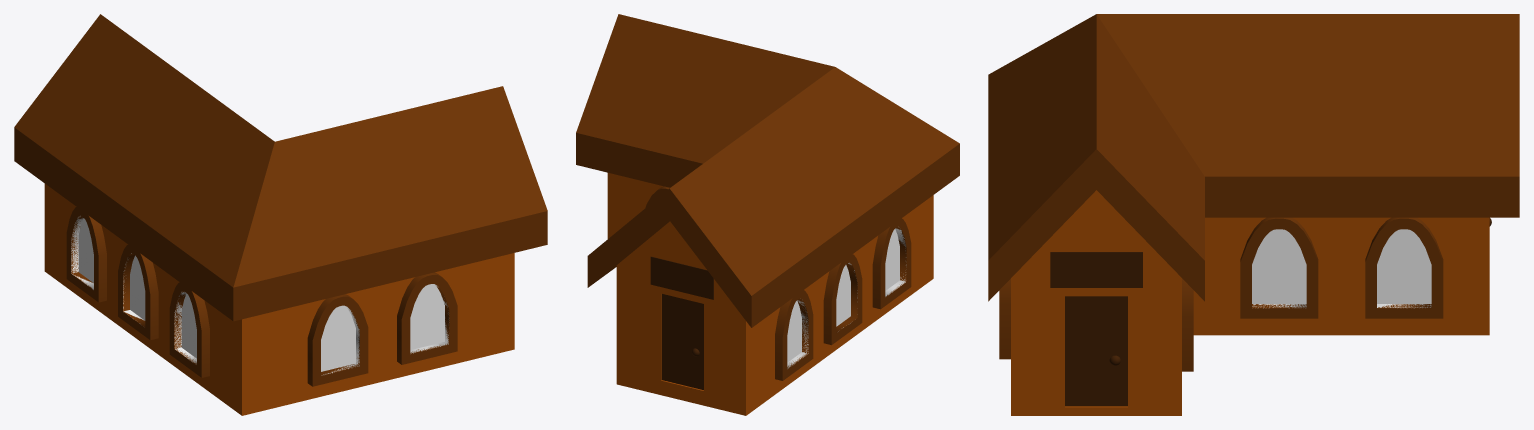
3 renders of one model, left to right at view 1: azimuth 30°, elevation 25°; view 2: azimuth 150°, elevation 25°; view 3: azimuth 270°, elevation 25°, orthographic. The views are drawn at different scales.
Visible parts, largest first — view 1: Cube.002, Cube.001, Cube.006, Cube.005, Cube.010, Cube.009; view 2: Cube.002, Cube.001, Cube.005, door2, door1.001, Cube.010; view 3: Cube.002, Cube.001, Cube.003, door2.002, door2.001, Cube.007, Cube.006.
Part boxes in pixels (x1=…): Cube.002: x1=14, y1=14, x2=547, y2=321; Cube.001: x1=44, y1=183, x2=514, y2=415; Cube.006: x1=307, y1=272, x2=457, y2=386; Cube.005: x1=66, y1=207, x2=209, y2=377; Cube.010: x1=71, y1=216, x2=196, y2=364; Cube.009: x1=321, y1=284, x2=449, y2=375; Cube.002: x1=576, y1=14, x2=959, y2=327; Cube.001: x1=607, y1=173, x2=933, y2=415; Cube.005: x1=775, y1=218, x2=911, y2=380; door2: x1=661, y1=294, x2=703, y2=390; door1.001: x1=650, y1=256, x2=713, y2=299; Cube.010: x1=787, y1=228, x2=906, y2=368; Cube.002: x1=988, y1=14, x2=1519, y2=301; Cube.001: x1=1011, y1=190, x2=1489, y2=415; Cube.003: x1=1240, y1=217, x2=1443, y2=318; door2.002: x1=1065, y1=296, x2=1127, y2=406; door2.001: x1=1050, y1=252, x2=1142, y2=287; Cube.007: x1=1182, y1=278, x2=1193, y2=371; Cube.006: x1=999, y1=278, x2=1010, y2=359.
Size of the model in its own units: 514 by 362 by 621.
